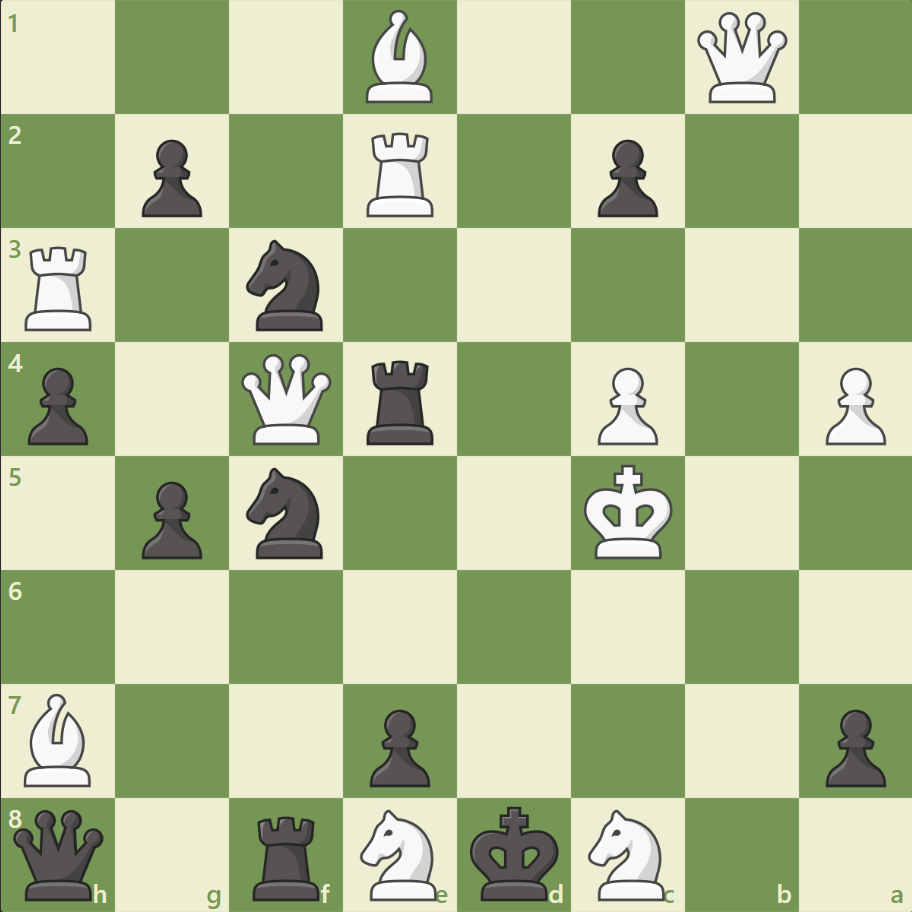B: (17, 687, 101, 790), (358, 6, 442, 109)
K: (579, 458, 679, 566)
N: (351, 802, 449, 904), (579, 802, 676, 904)
P: (815, 359, 889, 450), (588, 359, 662, 450)
Q: (237, 349, 336, 449), (691, 9, 790, 108)
R: (19, 239, 102, 336), (360, 125, 442, 222)
k: (465, 798, 565, 906)
n: (238, 461, 335, 564), (238, 234, 335, 337)
p: (133, 473, 208, 564), (20, 359, 95, 450), (133, 132, 208, 223), (815, 700, 889, 791), (361, 700, 435, 791), (588, 132, 662, 223)
q: (10, 804, 109, 903)
r: (246, 806, 329, 904), (360, 352, 442, 449)
